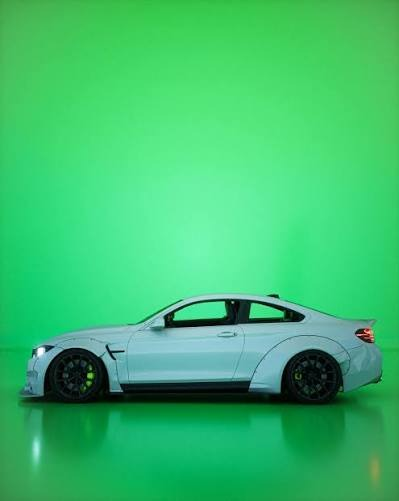car: (36, 283, 372, 411)
